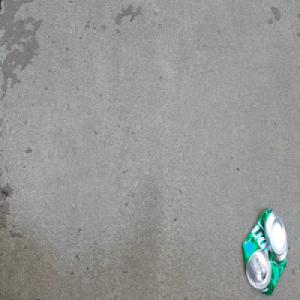SodaCan: (241, 206, 290, 297)
